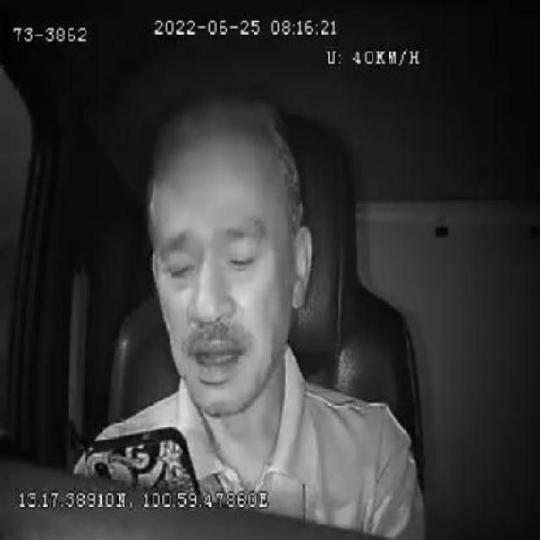phone: (82, 420, 203, 491)
